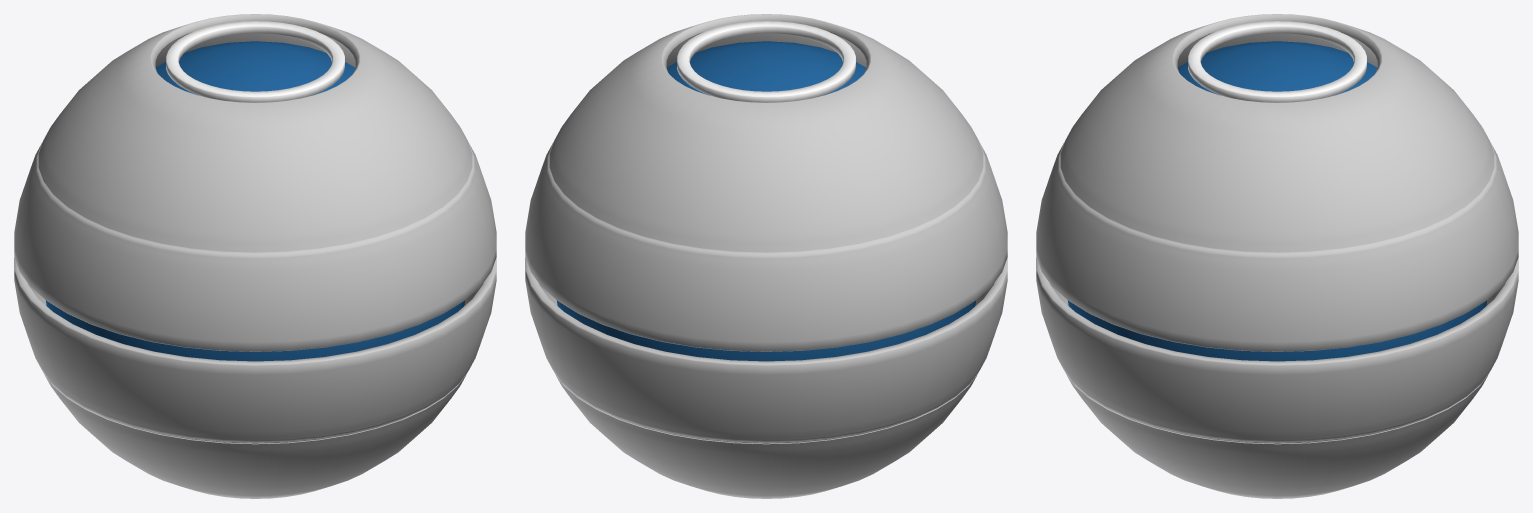
File: ball.dae
3 views of the same model, side by side, from view 1: azimuth 30°, elevation 25°; view 2: azimuth 150°, elevation 25°; view 3: azimuth 270°, elevation 25° (orthographic).
Visible parts, largest first — view 1: Metallic_body, core, ring; view 2: Metallic_body, core, ring; view 3: Metallic_body, core, ring.
Boxes of the visible parts, x1,y1,x2,y2 form: Metallic_body: (14,14,496,498); core: (46,41,464,361); ring: (166,21,344,102); Metallic_body: (525,14,1007,498); core: (557,41,975,361); ring: (677,21,855,102); Metallic_body: (1036,14,1518,498); core: (1068,41,1486,361); ring: (1188,21,1366,102).
Size of the model in its own units: 417 by 376 by 415.
